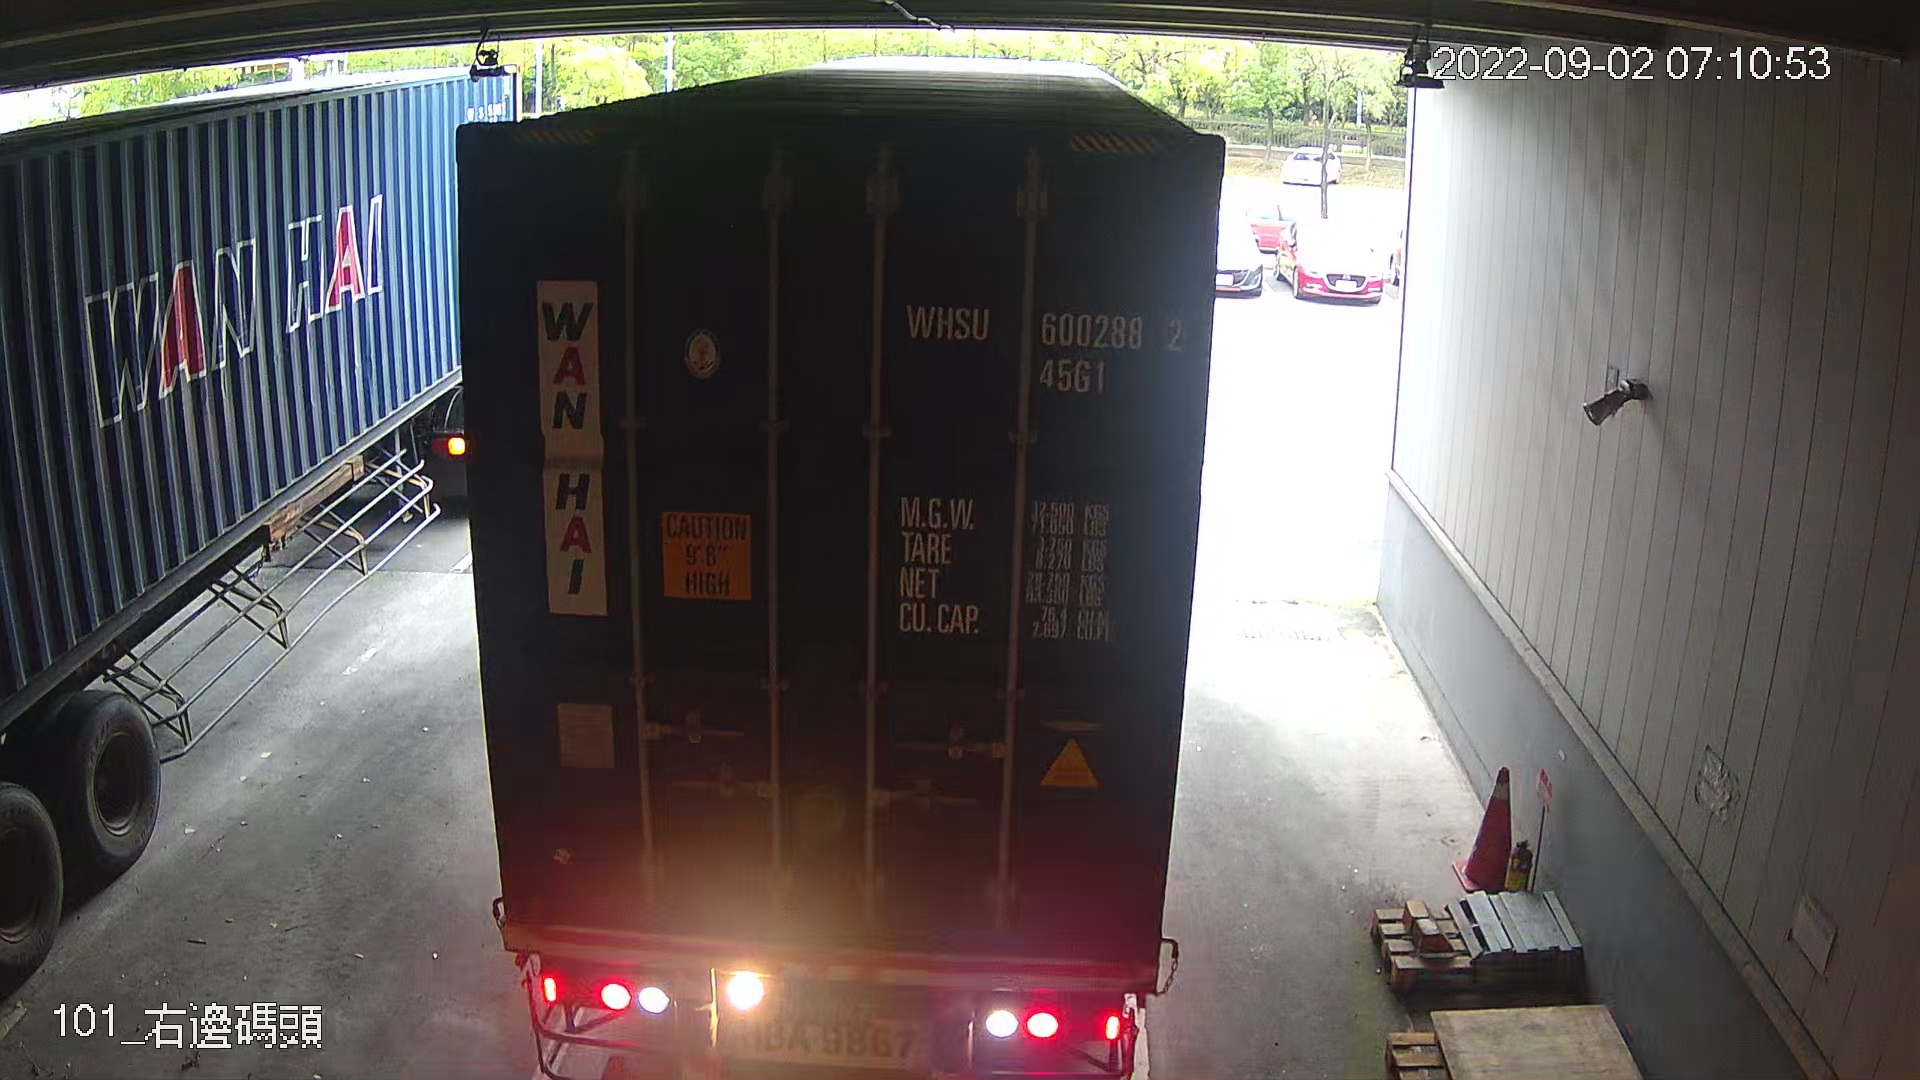container: (895, 285, 1197, 404)
